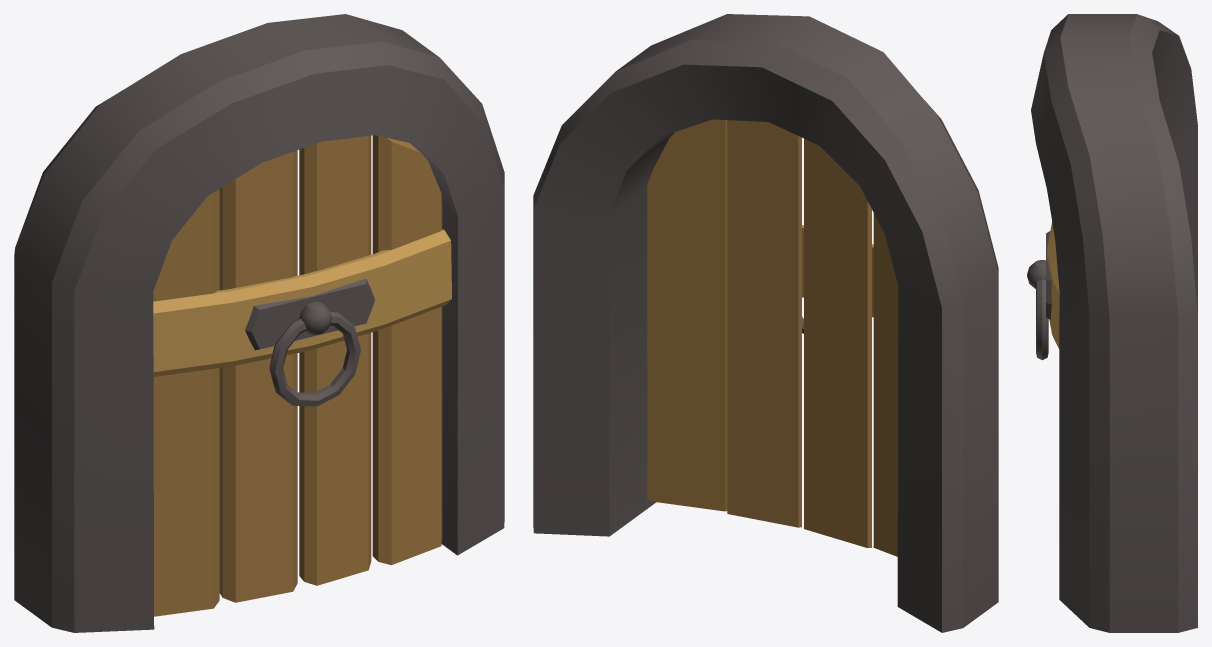
The model's file is Door.gltf.
3 renders of one model, left to right at view 1: azimuth 30°, elevation 25°; view 2: azimuth 150°, elevation 25°; view 3: azimuth 270°, elevation 25°, orthographic. The views are drawn at different scales.
Parts seen in each view (by area): view 1: Door_Frame, Door; view 2: Door_Frame, Door; view 3: Door_Frame, Door.
Part boxes in pixels (x1=…): Door_Frame: x1=14, y1=14, x2=504, y2=632; Door: x1=153, y1=135, x2=451, y2=616; Door_Frame: x1=533, y1=14, x2=998, y2=632; Door: x1=647, y1=119, x2=898, y2=556; Door_Frame: x1=1031, y1=14, x2=1197, y2=632; Door: x1=1027, y1=221, x2=1059, y2=360.
Bounding box in the file's own units: 3.71 × 4.24 × 1.33.
